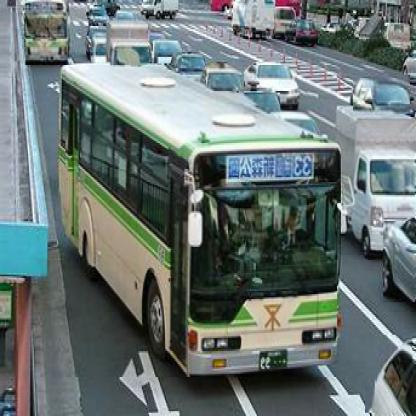bus: (65, 66, 338, 380), (26, 3, 72, 68)
car: (365, 336, 413, 415), (383, 219, 416, 305), (244, 66, 298, 112), (353, 76, 411, 116), (205, 63, 245, 95), (244, 94, 281, 117), (153, 42, 183, 66), (275, 8, 295, 40), (296, 21, 319, 47), (91, 34, 108, 66)
truck: (341, 113, 416, 258), (110, 22, 149, 69), (233, 3, 275, 34)
